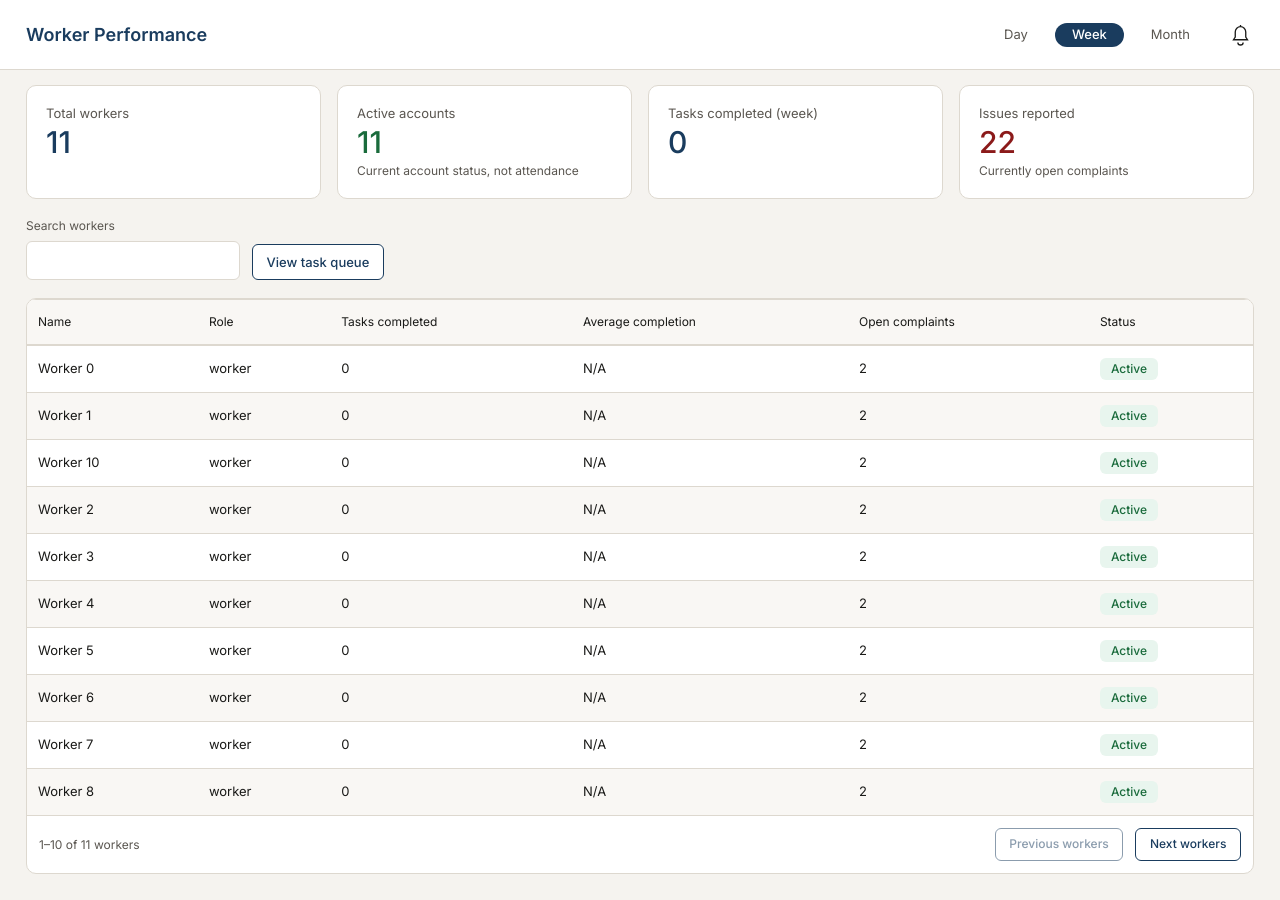
DDP-033 worker view › keeps deterministic name order and paging of zero-task workers
(page scrolled)
expect the text "Worker 0" is shown: met, box [27,346,198,393]
Click the button "Next workers": (1188, 845) [1135,828,1241,861]
(page scrolled)
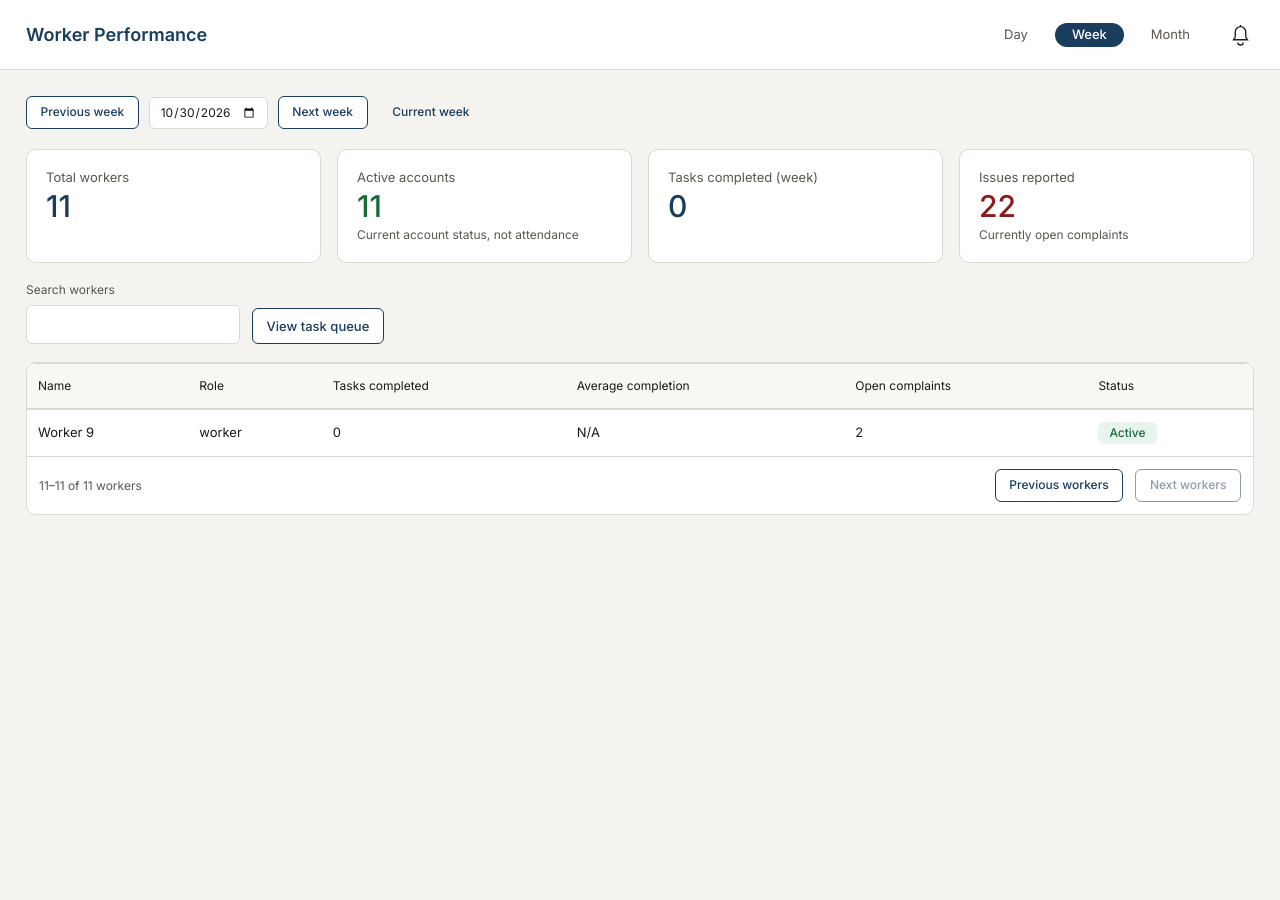
expect the text "11–11 of 11 workers" is shown: met, box [39,477,142,495]
expect the text "Worker 9" is shown: met, box [27,410,188,456]
Click the button "Previous workers": (1059, 486) [995,469,1123,502]
(page scrolled)
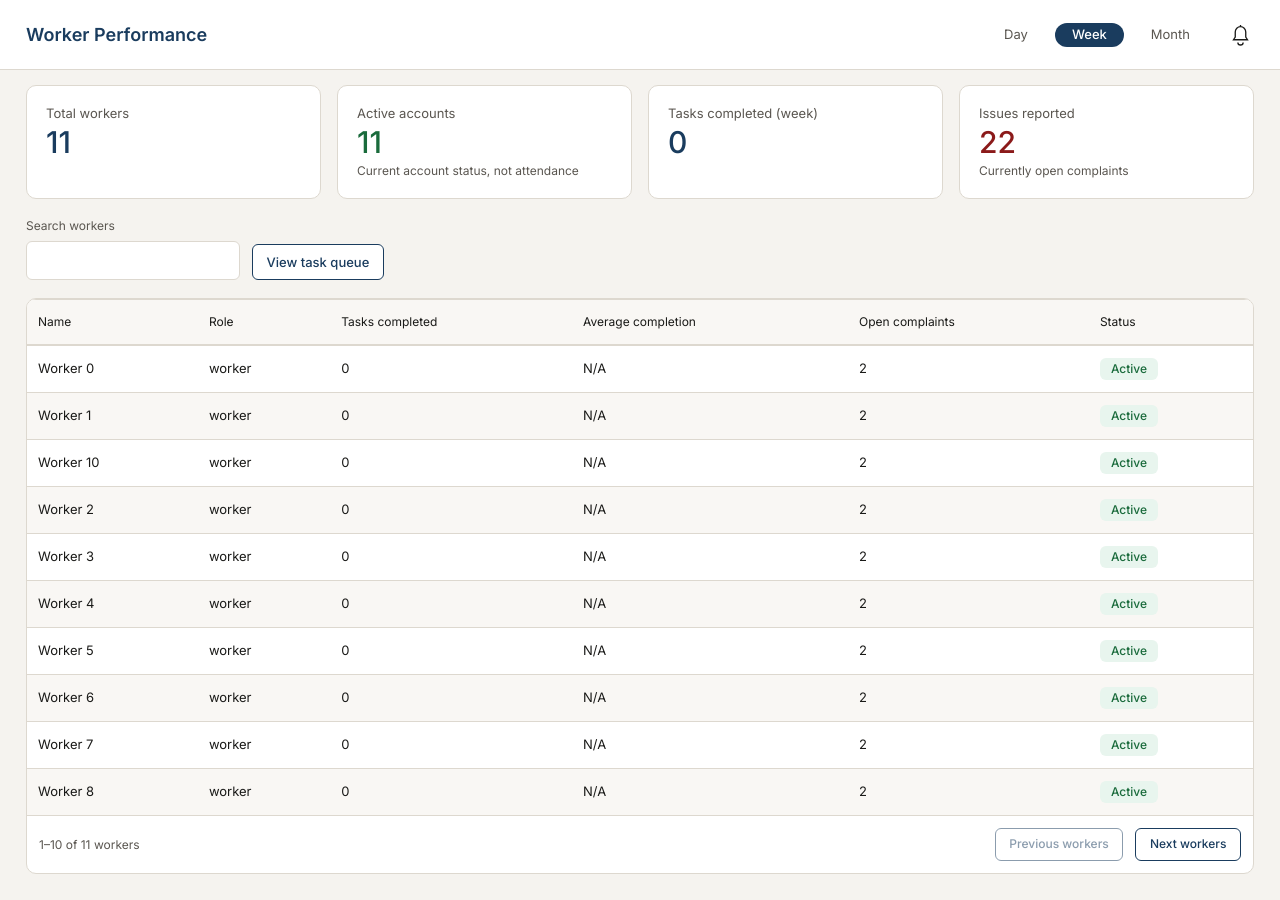
expect the text "1–10 of 11 workers" is shown: met, box [39,836,140,854]
